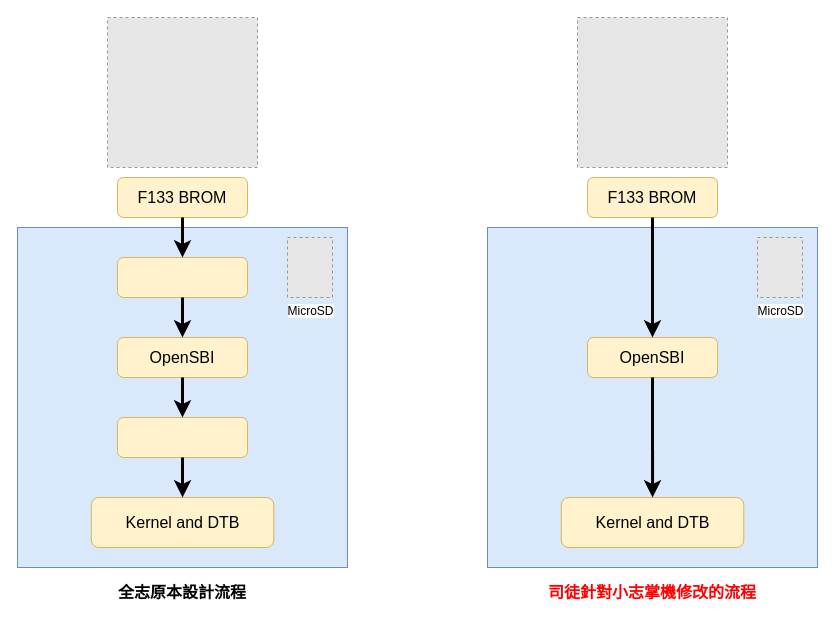
The diagram is 835 pixels wide and 625 high, and some of its shapes have lost their labels. Grey dashed boxes stand in for pictures. The shapes that lost their labels are listed below. From the top down, each one's centre as x and y in pixels, then its label:
the point at 182,277: BOOT0
the point at 182,437: U-Boot
